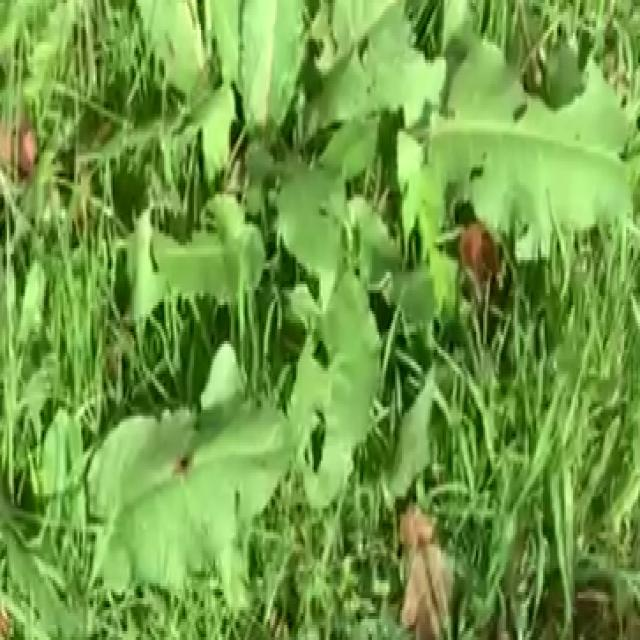organic waste: (63, 0, 640, 583)
